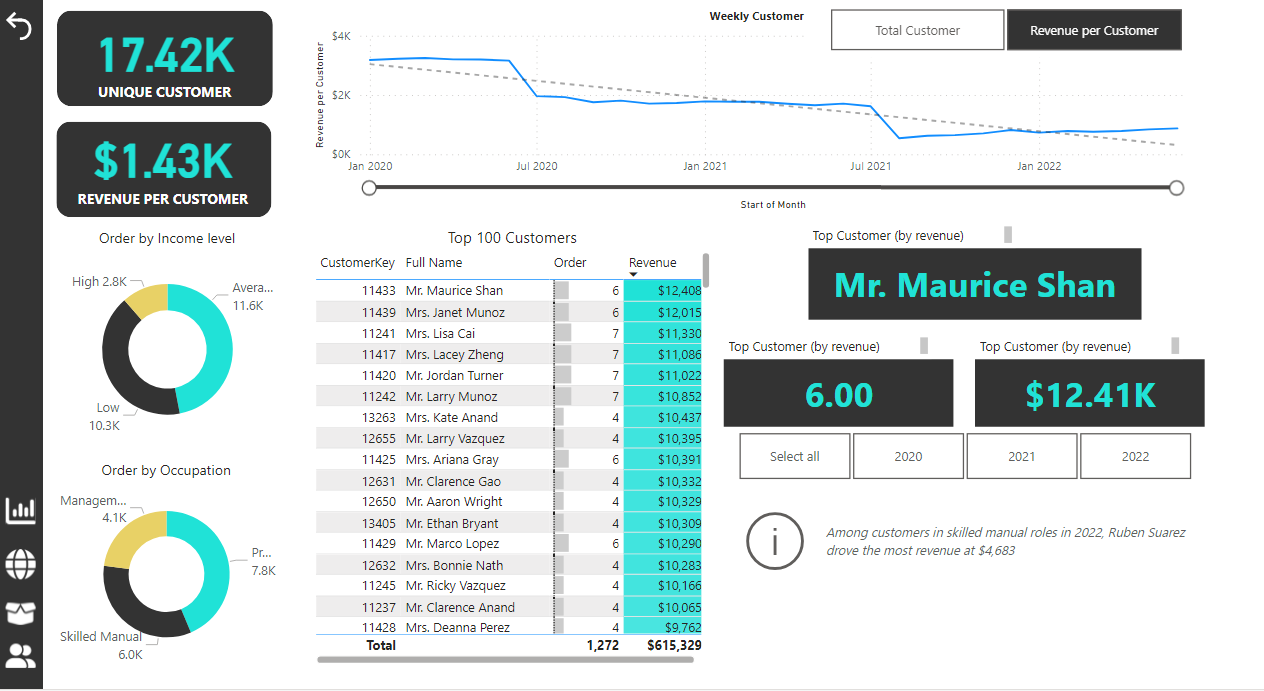

The dashboard page shown, as its layout file describes it:
{"tool":"powerbi","page":{"name":"Customer Details","canvas":[1280,720],"ordinal":3},"visuals":[{"type":"shape","box":[0,0,45,720],"z":0},{"type":"actionButton","box":[1.2,569.4,100,39.8],"z":1000,"group":"g1"},{"type":"shape","box":[58.4,126.9,225,100],"z":1000},{"type":"shape","box":[59.3,10.7,225.7,100],"z":2000},{"type":"actionButton","box":[1.2,621.7,100,39.8],"z":2000,"group":"g1"},{"type":"card","fields":{"Values":["Measure Table.Total Customer"]},"box":[64.2,3.7,214.8,113.6],"z":3000},{"type":"actionButton","box":[1.2,665.1,100,39.8],"z":3000,"group":"g1"},{"type":"actionButton","box":[1.2,514,100,39.8],"z":4000,"group":"g1"},{"type":"card","fields":{"Values":["Measure Table.Average Revenue per Customer"]},"box":[63,115.3,213.9,113.4],"z":4000},{"type":"lineChart","title":"Weekly Customer","fields":{"Y":["Measure Table.Total Customer"],"Category":["Calendar Lookup.Date Hierarchy.Start of Year","Calendar Lookup.Date Hierarchy.Start of Month","Calendar Lookup.Date Hierarchy.Start of Week","Calendar Lookup.Date Hierarchy.Date"]},"box":[322.9,7.2,936.1,216.9],"z":5000},{"type":"donutChart","title":"Order by Income level","fields":{"Y":["Measure Table.Total Order"],"Category":["Customer Lookup.Income level"]},"box":[57.7,237.1,233.3,234.6],"z":6000},{"type":"donutChart","title":"Order by Occupation ","fields":{"Y":["Measure Table.Total Order"],"Category":["Customer Lookup.Occupation"]},"box":[53.1,480.2,240.7,218.5],"z":7000},{"type":"tableEx","title":"Top 100 Customers","fields":{"Values":["Customer Lookup.CustomerKey","Customer Lookup.Full Name","Measure Table.Total Order","Measure Table.Total revenue"]},"box":[323.5,237,423.5,461.7],"z":8000},{"type":"card","fields":{"Values":["Measure Table.Full Name (Customer Details)"]},"box":[844.6,259.2,347.5,74.1],"z":9000},{"type":"card","fields":{"Values":["Measure Table.Total Revenue (Customer Details)"]},"box":[1018.6,375.1,240.6,71.8],"z":10000},{"type":"card","fields":{"Values":["Measure Table.Total Orders (Customer Details)"]},"box":[756.7,375.1,240.6,71.8],"z":11000},{"type":"textbox","box":[844.4,231.5,218,27.9],"z":12000},{"type":"textbox","box":[756.7,347.2,218,27.9],"z":13000},{"type":"textbox","box":[1018.6,347.2,218,27.9],"z":14000},{"type":"slicer","fields":{"Values":["Calendar Lookup.Year"]},"box":[745.8,445.8,522.9,61.4],"z":15000},{"type":"actionButton","box":[772.3,527.7,486.7,75.9],"z":16000},{"type":"actionButton","box":[0,7.2,100,39.8],"z":17000},{"type":"group","id":"g1","title":"NAV Buttons","box":[1.2,514,100,190.9],"z":18000},{"type":"slicer","fields":{"Values":["Customer Matric Selection .Customer Matric Selection "]},"box":[841.9,3.4,417,57],"z":19000}]}

Visuals, with their boxes in screenshot pixels (x1, y1, x2, y2), scaled from the page's 1280x720 canvas onto the 1264x691 screenshot:
shape: (x1=0, y1=0, x2=44, y2=690)
actionButton: (x1=1, y1=546, x2=100, y2=585)
shape: (x1=58, y1=122, x2=280, y2=218)
shape: (x1=59, y1=10, x2=281, y2=106)
actionButton: (x1=1, y1=597, x2=100, y2=635)
card - Measure Table.Total Customer: (x1=63, y1=4, x2=276, y2=113)
actionButton: (x1=1, y1=638, x2=100, y2=677)
actionButton: (x1=1, y1=493, x2=100, y2=531)
card - Measure Table.Average Revenue per Customer: (x1=62, y1=111, x2=273, y2=219)
"Weekly Customer" lineChart: (x1=319, y1=7, x2=1243, y2=215)
"Order by Income level" donutChart: (x1=57, y1=228, x2=287, y2=453)
"Order by Occupation " donutChart: (x1=52, y1=461, x2=290, y2=671)
"Top 100 Customers" tableEx: (x1=319, y1=227, x2=738, y2=671)
card - Measure Table.Full Name (Customer Details): (x1=834, y1=249, x2=1177, y2=320)
card - Measure Table.Total Revenue (Customer Details): (x1=1006, y1=360, x2=1243, y2=429)
card - Measure Table.Total Orders (Customer Details): (x1=747, y1=360, x2=985, y2=429)
textbox: (x1=834, y1=222, x2=1049, y2=249)
textbox: (x1=747, y1=333, x2=963, y2=360)
textbox: (x1=1006, y1=333, x2=1221, y2=360)
slicer - Calendar Lookup.Year: (x1=736, y1=428, x2=1253, y2=487)
actionButton: (x1=763, y1=506, x2=1243, y2=579)
actionButton: (x1=0, y1=7, x2=99, y2=45)
"NAV Buttons" group: (x1=1, y1=493, x2=100, y2=677)
slicer - Customer Matric Selection .Customer Matric Selection : (x1=831, y1=3, x2=1243, y2=58)
